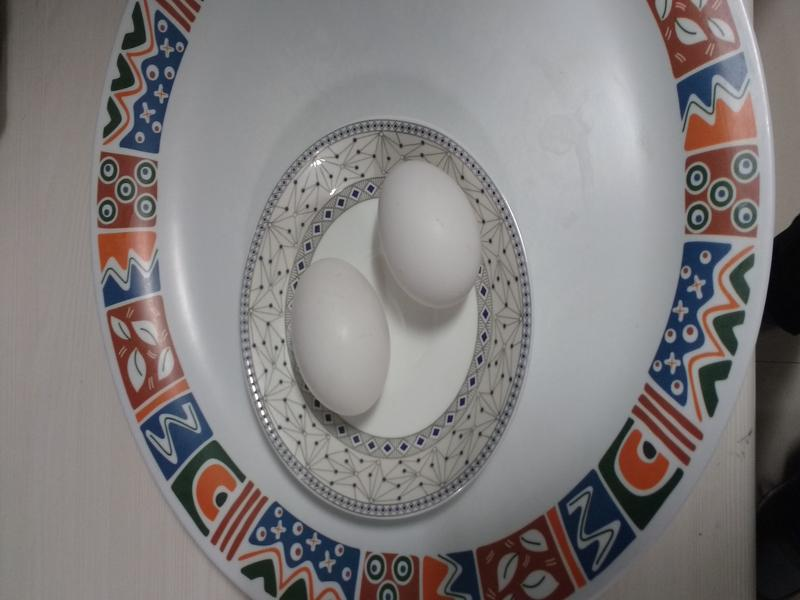egg: (377, 167, 499, 306)
